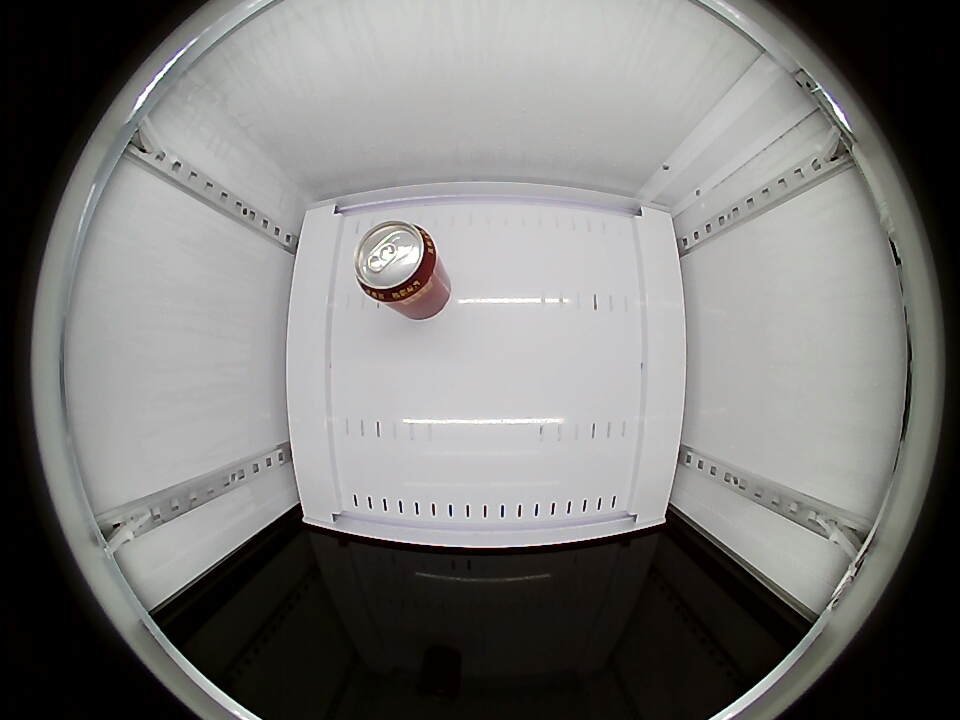wanglaoji-c: (354, 220, 440, 305)
